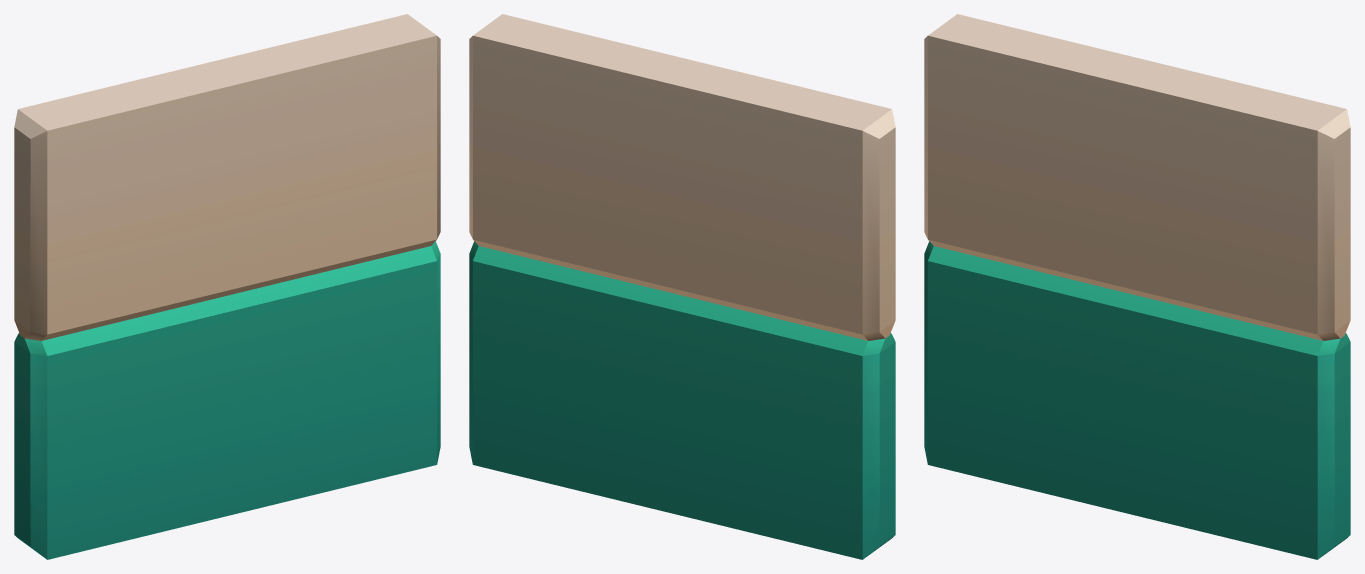
File: wall.glb
The picture shows the model from 3 angles, left to right: view 1: azimuth 30°, elevation 25°; view 2: azimuth 150°, elevation 25°; view 3: azimuth 330°, elevation 25°; orthographic projection.
Parts seen in each view (by area): view 1: wall3; view 2: wall3; view 3: wall3.
Boxes of the visible parts, left/top/right/bottom form: wall3: left=14, top=14, right=440, bottom=559; wall3: left=469, top=14, right=895, bottom=559; wall3: left=924, top=14, right=1350, bottom=559.
Bounding box in the file's own units: 4 × 4 × 0.5.
Materials: 1 (1 with a texture image).
